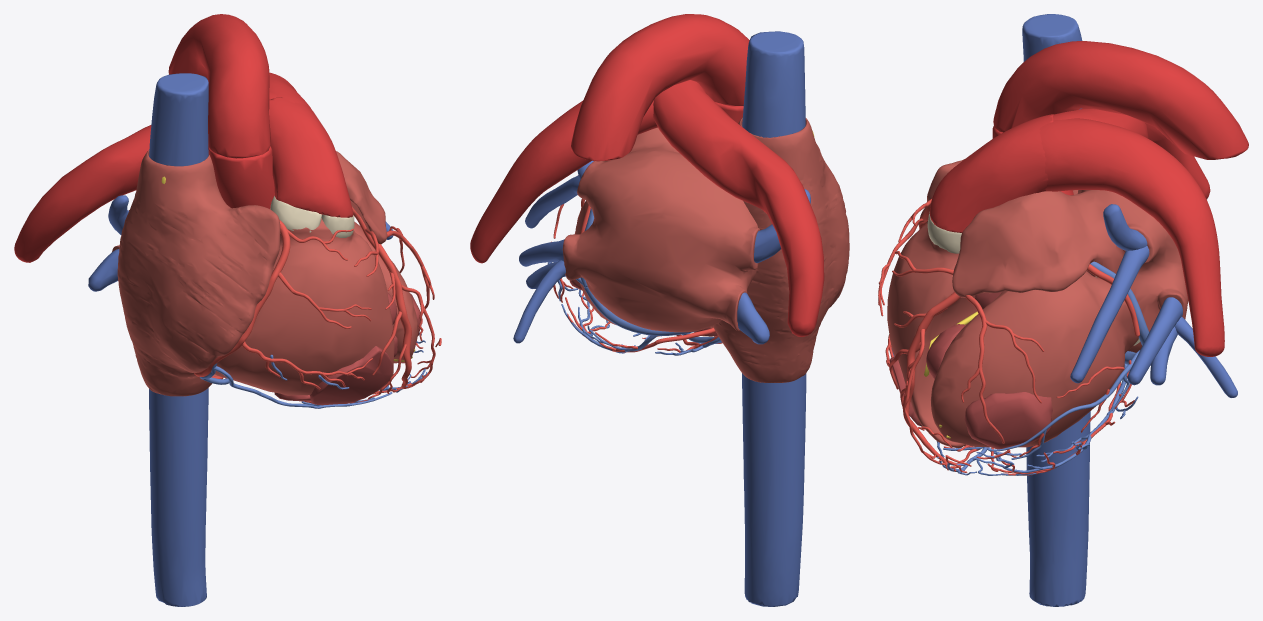
Rendered from heart.glb.
The picture shows the model from 3 angles, left to right: view 1: azimuth 30°, elevation 25°; view 2: azimuth 150°, elevation 25°; view 3: azimuth 270°, elevation 25°; orthographic projection. The views are drawn at different scales.
Visible parts, largest first — view 1: right-atrium, right-ventricle, pulmonary-trunk, aorta, inferior-vena-cava, superior-vena-cava, left-anterior-descending-artery, right-coronary-artery, right-papillary-muscles, left-atrium, pulmonary-valve, pulmonary-veins (+2 smaller); view 2: left-atrium, pulmonary-trunk, aorta, inferior-vena-cava, right-atrium, superior-vena-cava, pulmonary-veins, cardiac-veins, right-coronary-artery, coronary-sinus; view 3: pulmonary-trunk, left-ventricle, left-atrium, aorta, inferior-vena-cava, right-ventricle, pulmonary-veins, left-papillary-muscles, left-anterior-descending-artery, cardiac-veins, right-coronary-artery, superior-vena-cava (+3 smaller).
Part boxes in pixels (bbox=[...]): right-atrium: bbox=[117, 150, 280, 396]; right-ventricle: bbox=[215, 218, 394, 395]; pulmonary-trunk: bbox=[14, 72, 353, 262]; aorta: bbox=[168, 14, 274, 208]; inferior-vena-cava: bbox=[149, 388, 208, 606]; superior-vena-cava: bbox=[149, 73, 208, 166]; left-anterior-descending-artery: bbox=[352, 207, 441, 398]; right-coronary-artery: bbox=[194, 220, 418, 403]; right-papillary-muscles: bbox=[274, 346, 392, 405]; left-atrium: bbox=[112, 151, 387, 251]; pulmonary-valve: bbox=[270, 196, 354, 237]; pulmonary-veins: bbox=[88, 195, 393, 291]; left-atrium: bbox=[562, 127, 760, 332]; pulmonary-trunk: bbox=[470, 80, 824, 336]; aorta: bbox=[571, 14, 749, 161]; inferior-vena-cava: bbox=[742, 373, 806, 606]; right-atrium: bbox=[713, 117, 849, 382]; superior-vena-cava: bbox=[742, 31, 805, 137]; pulmonary-veins: bbox=[513, 160, 810, 344]; cardiac-veins: bbox=[547, 208, 721, 355]; right-coronary-artery: bbox=[565, 292, 722, 352]; coronary-sinus: bbox=[584, 286, 695, 336]; pulmonary-trunk: bbox=[929, 108, 1224, 356]; left-ventricle: bbox=[931, 271, 1138, 447]; left-atrium: bbox=[952, 190, 1188, 352]; aorta: bbox=[992, 41, 1248, 195]; inferior-vena-cava: bbox=[1026, 411, 1090, 606]; right-ventricle: bbox=[887, 224, 976, 448]; pulmonary-veins: bbox=[1070, 204, 1237, 397]; left-papillary-muscles: bbox=[926, 324, 1052, 449]; left-anterior-descending-artery: bbox=[889, 251, 1044, 472]; cardiac-veins: bbox=[891, 261, 1149, 475]; right-coronary-artery: bbox=[878, 199, 1134, 475]; superior-vena-cava: bbox=[1022, 14, 1082, 109].
Size of the model in its own units: 0.1408 by 0.2222 by 0.1267.
